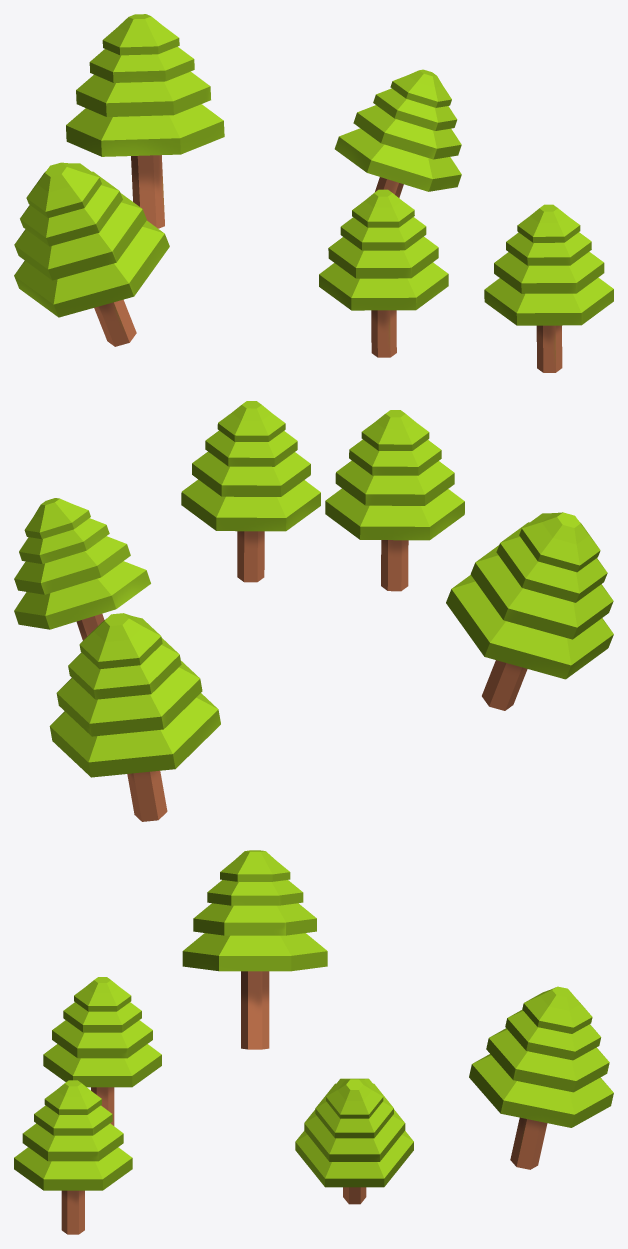
The model's file is treeTile1.obj.
3 views of the same model, one above another, from view 1: azimuth 30°, elevation 25°; view 2: azimuth 150°, elevation 25°; view 3: azimuth 270°, elevation 25° (orthographic). The views are drawn at different scales.
Parts seen in each view (by area): view 1: TreeTile1_Cylinder.001; view 2: TreeTile1_Cylinder.001; view 3: TreeTile1_Cylinder.001.
Boxes of the visible parts, x1=… form: TreeTile1_Cylinder.001: x1=14, y1=14, x2=613, y2=372; TreeTile1_Cylinder.001: x1=14, y1=401, x2=613, y2=821; TreeTile1_Cylinder.001: x1=14, y1=850, x2=613, y2=1234.
Bounding box in the file's own units: 5.19 × 2.41 × 6.25.
